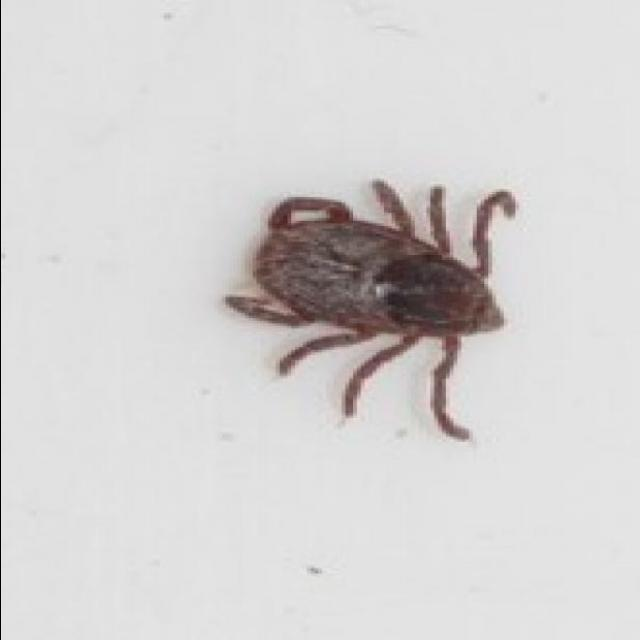Rhipicephalus Sanguineus-F: (217, 179, 514, 444)
